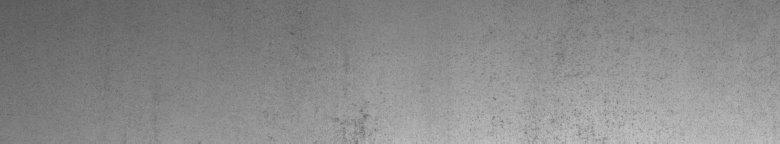ib: (290, 32, 377, 136)
